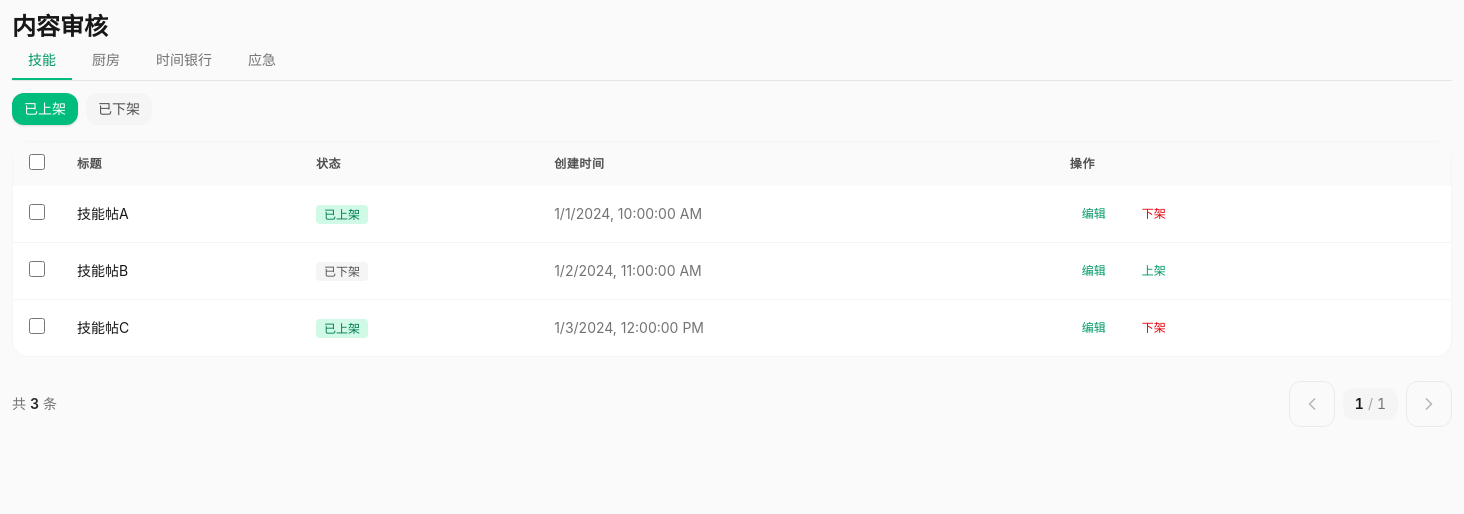
Test: ContentReview 批量操作 › 全选当前页内容
The width and height of the screenshot is (1464, 514).
Expected: the text "技能帖A" is shown, x1=61 y1=186 x2=300 y2=242
Click the checkbox named "全选当前页" at (37, 162), box x1=29 y1=154 x2=45 y2=170
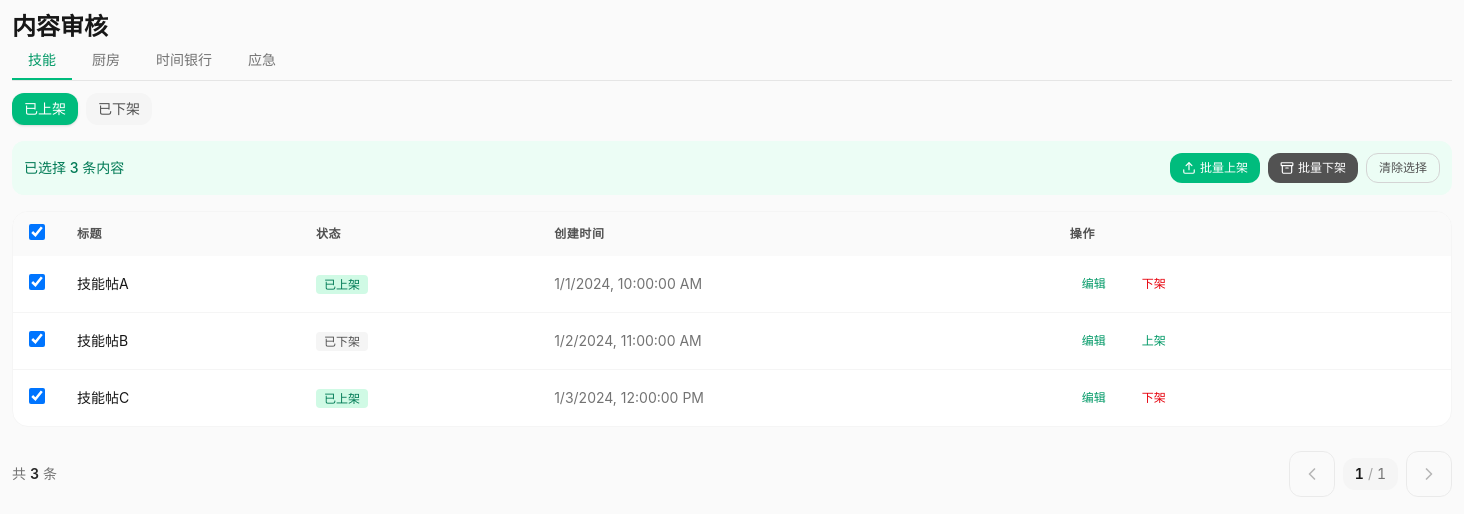
Expected: the text "已选择 3 条内容" is shown, x1=24 y1=158 x2=124 y2=178
